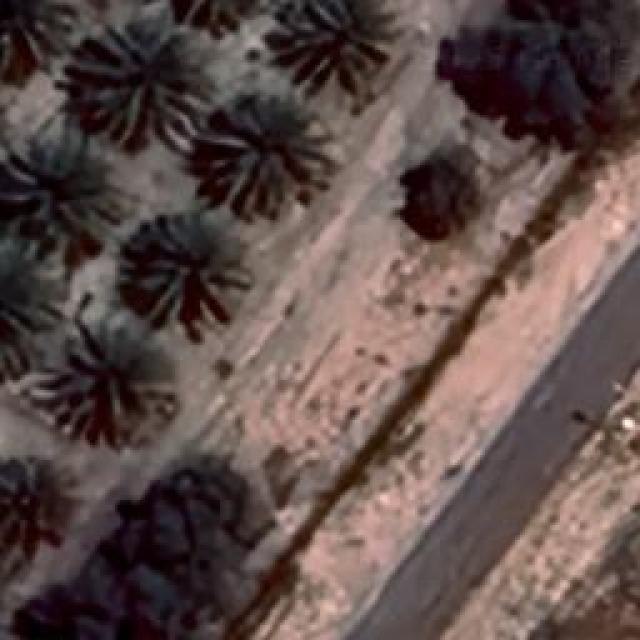PalmTree: (32, 39, 75, 501), (30, 318, 178, 448), (68, 18, 210, 148), (200, 92, 328, 218), (123, 210, 250, 332), (2, 130, 130, 238), (270, 0, 392, 88), (0, 232, 66, 364), (20, 589, 120, 640), (160, 0, 264, 28)
